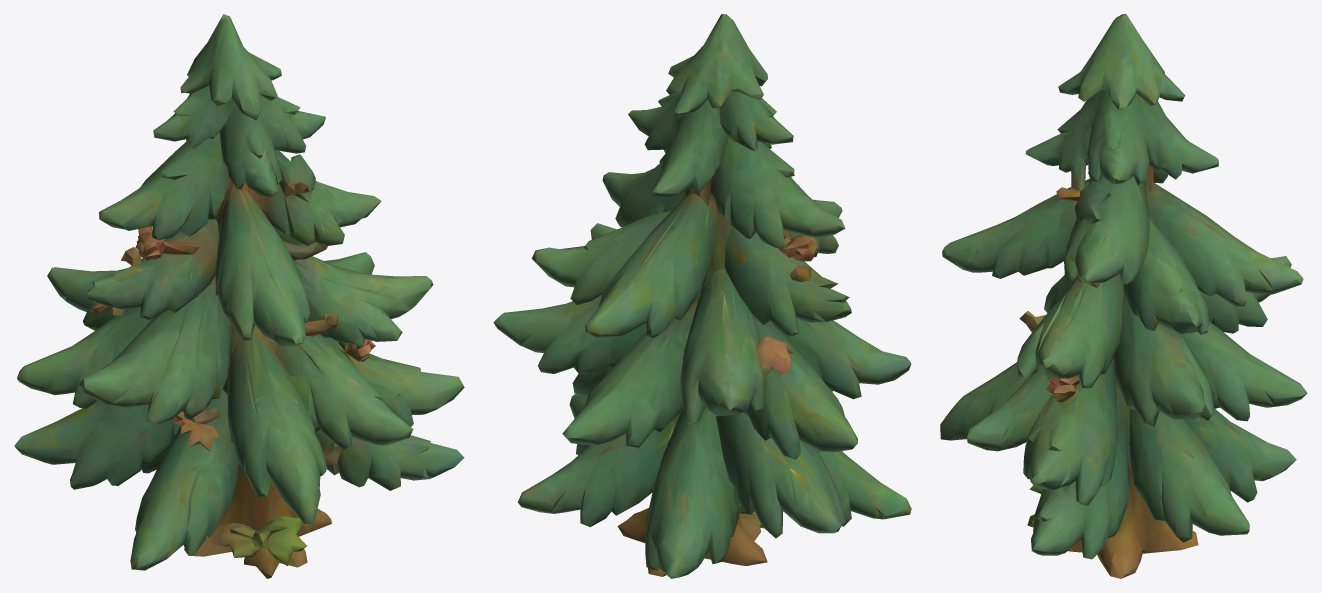
Rendered from pino_anterior.glb.
3 renders of one model, left to right at view 1: azimuth 30°, elevation 25°; view 2: azimuth 150°, elevation 25°; view 3: azimuth 270°, elevation 25°, orthographic. The views are drawn at different scales.
Parts seen in each view (by area): view 1: pino_malla; view 2: pino_malla; view 3: pino_malla.
Part boxes in pixels (<box>): pino_malla: <box>14,14,464,578</box>; pino_malla: <box>493,14,911,578</box>; pino_malla: <box>940,14,1307,578</box>.
Bounding box in the file's own units: 0.2581 × 0.3662 × 0.231.
Materials: 1 (1 with a texture image).
